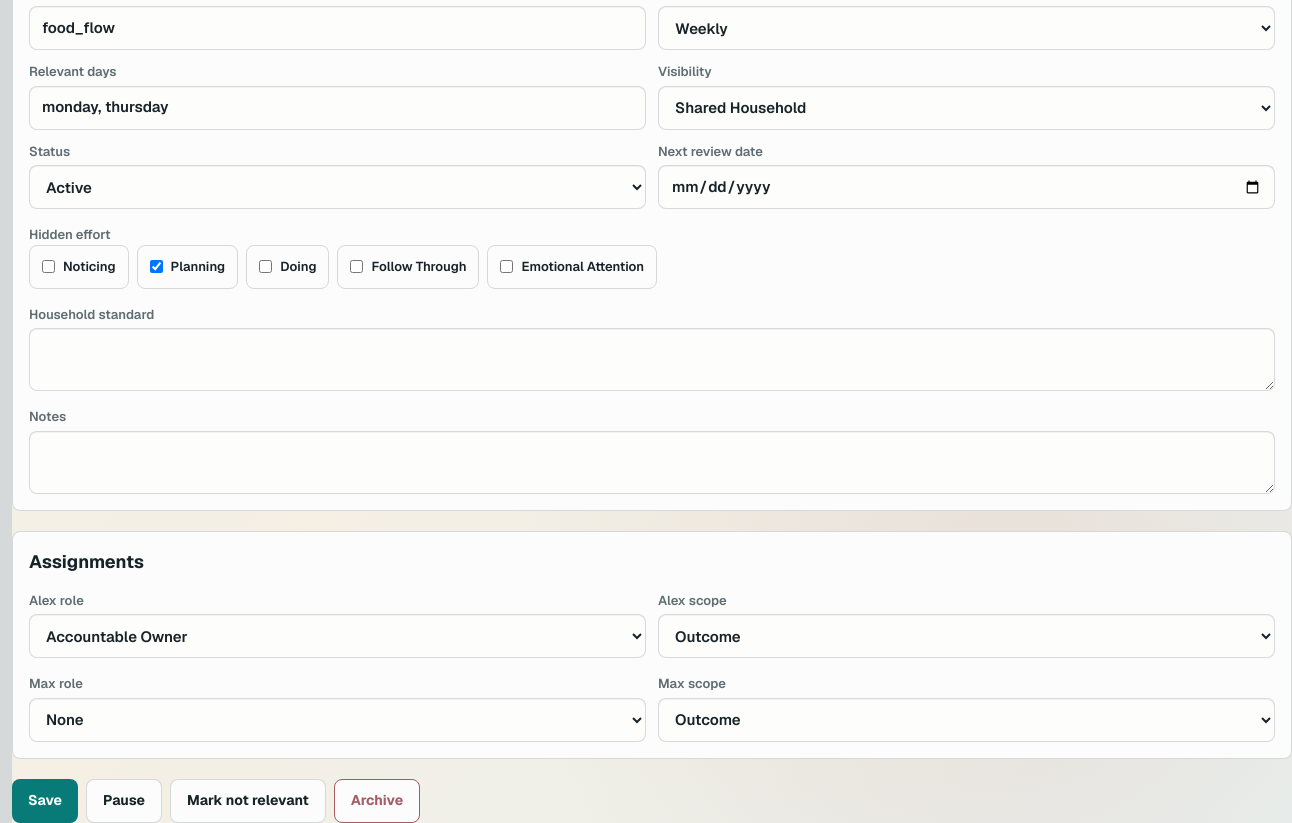
Test: ResponsibilityEditor › reports save failures and stops follow-up writes
(page scrolled)
Click the button "Save": (45, 800) left=12, top=778, right=78, bottom=822
(page scrolled)
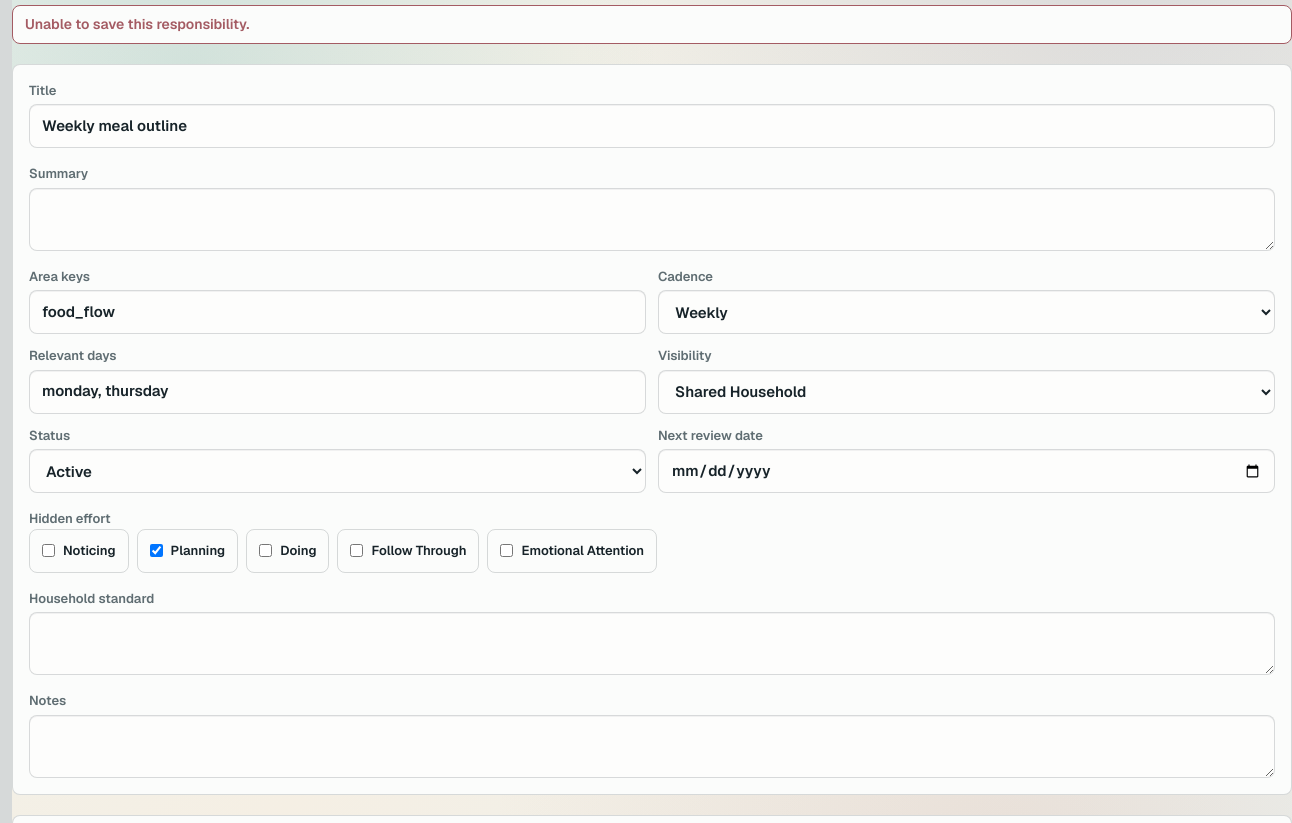
Now the message reads "Unable to save this responsibility.", box left=25, top=14, right=249, bottom=32
